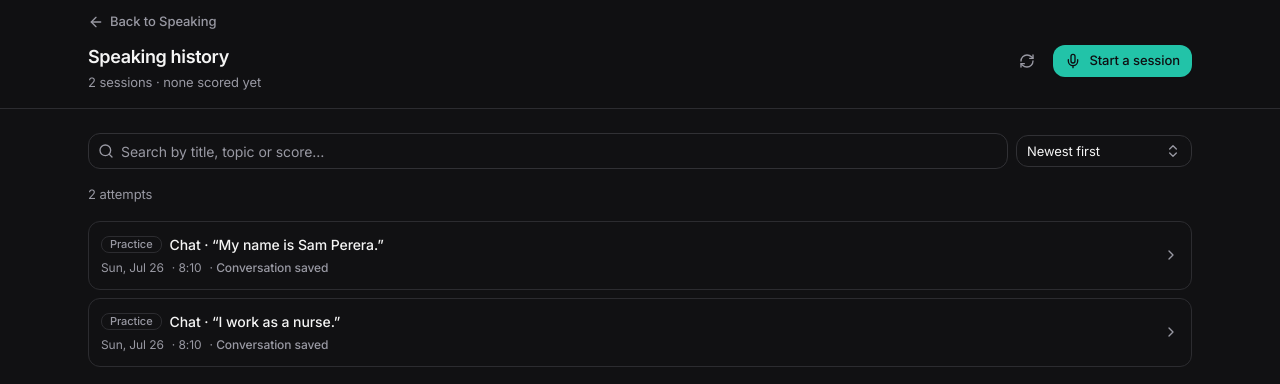
/speaking/history › filters by what was said
Check: the button "Sam Perera" is shown, box [88,221,1192,290]
Type "nurse" into the field named "Search your history" at (548, 151), box [88,133,1008,169]
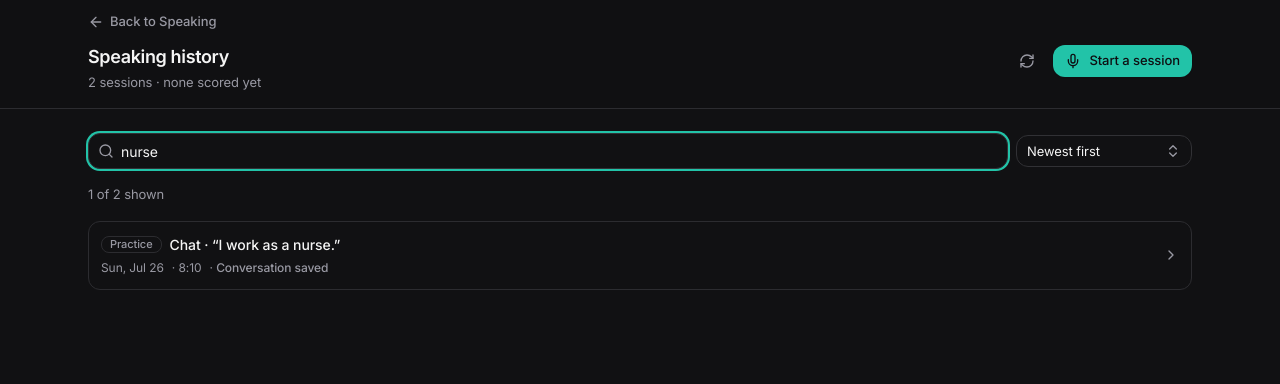
Check: the button "nurse" is shown, box [88,221,1192,290]
Check: the button "Sam Perera" is gone
